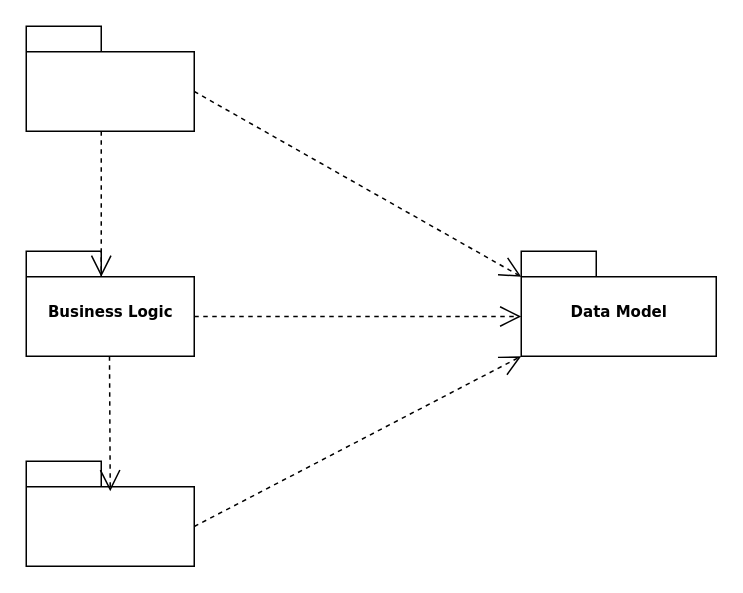
The diagram is 743 pixels wide and 593 high, and some of its shapes have lost their labels. The centre of each missing label's shape, as x and y in pixels:
"Data Access" belongs at (109,513).
"Presentation" belongs at (109,78).
